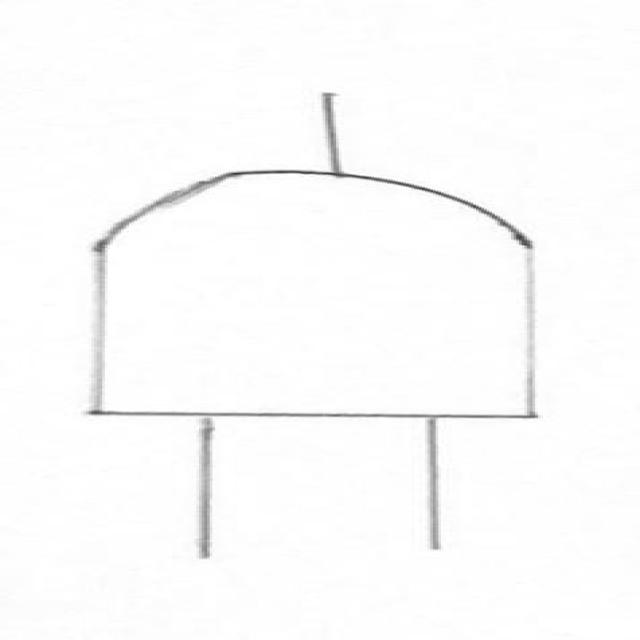AND: (40, 147, 590, 433)
